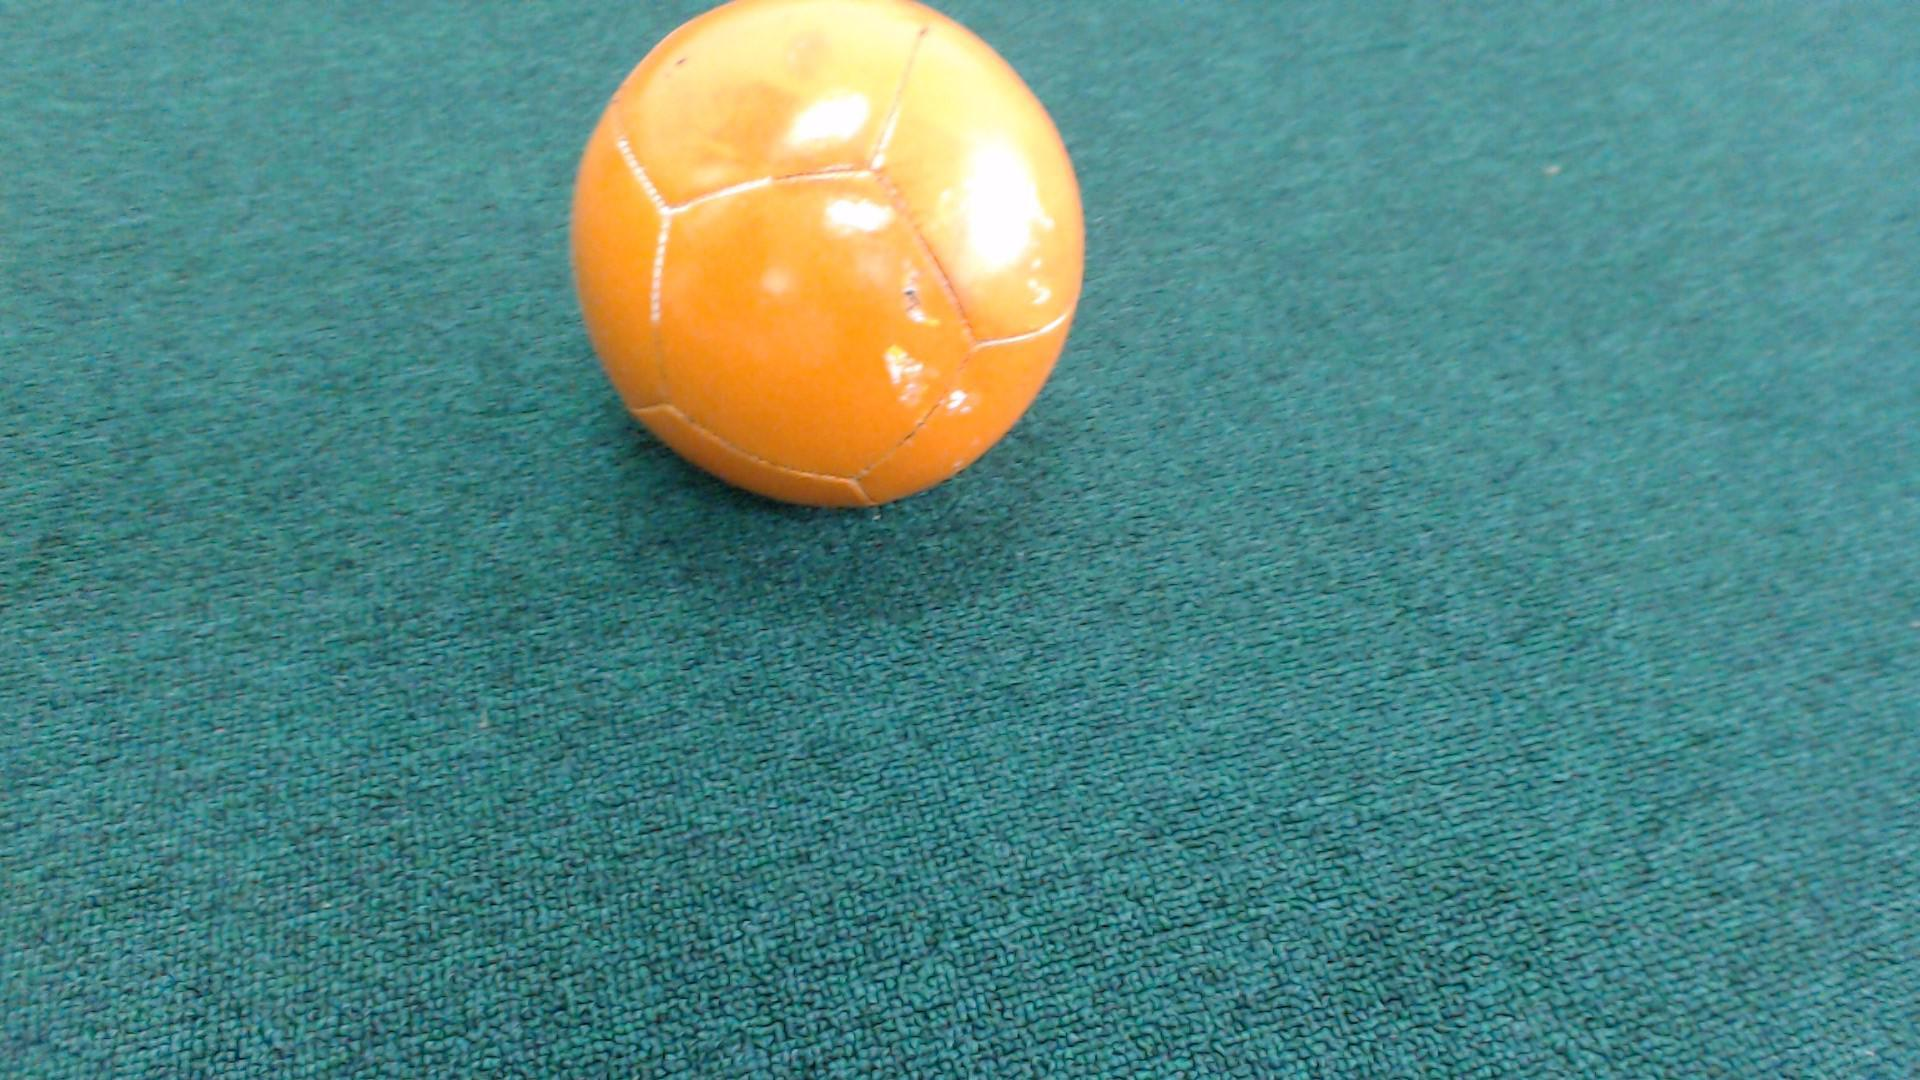bola: (510, 0, 1106, 562)
